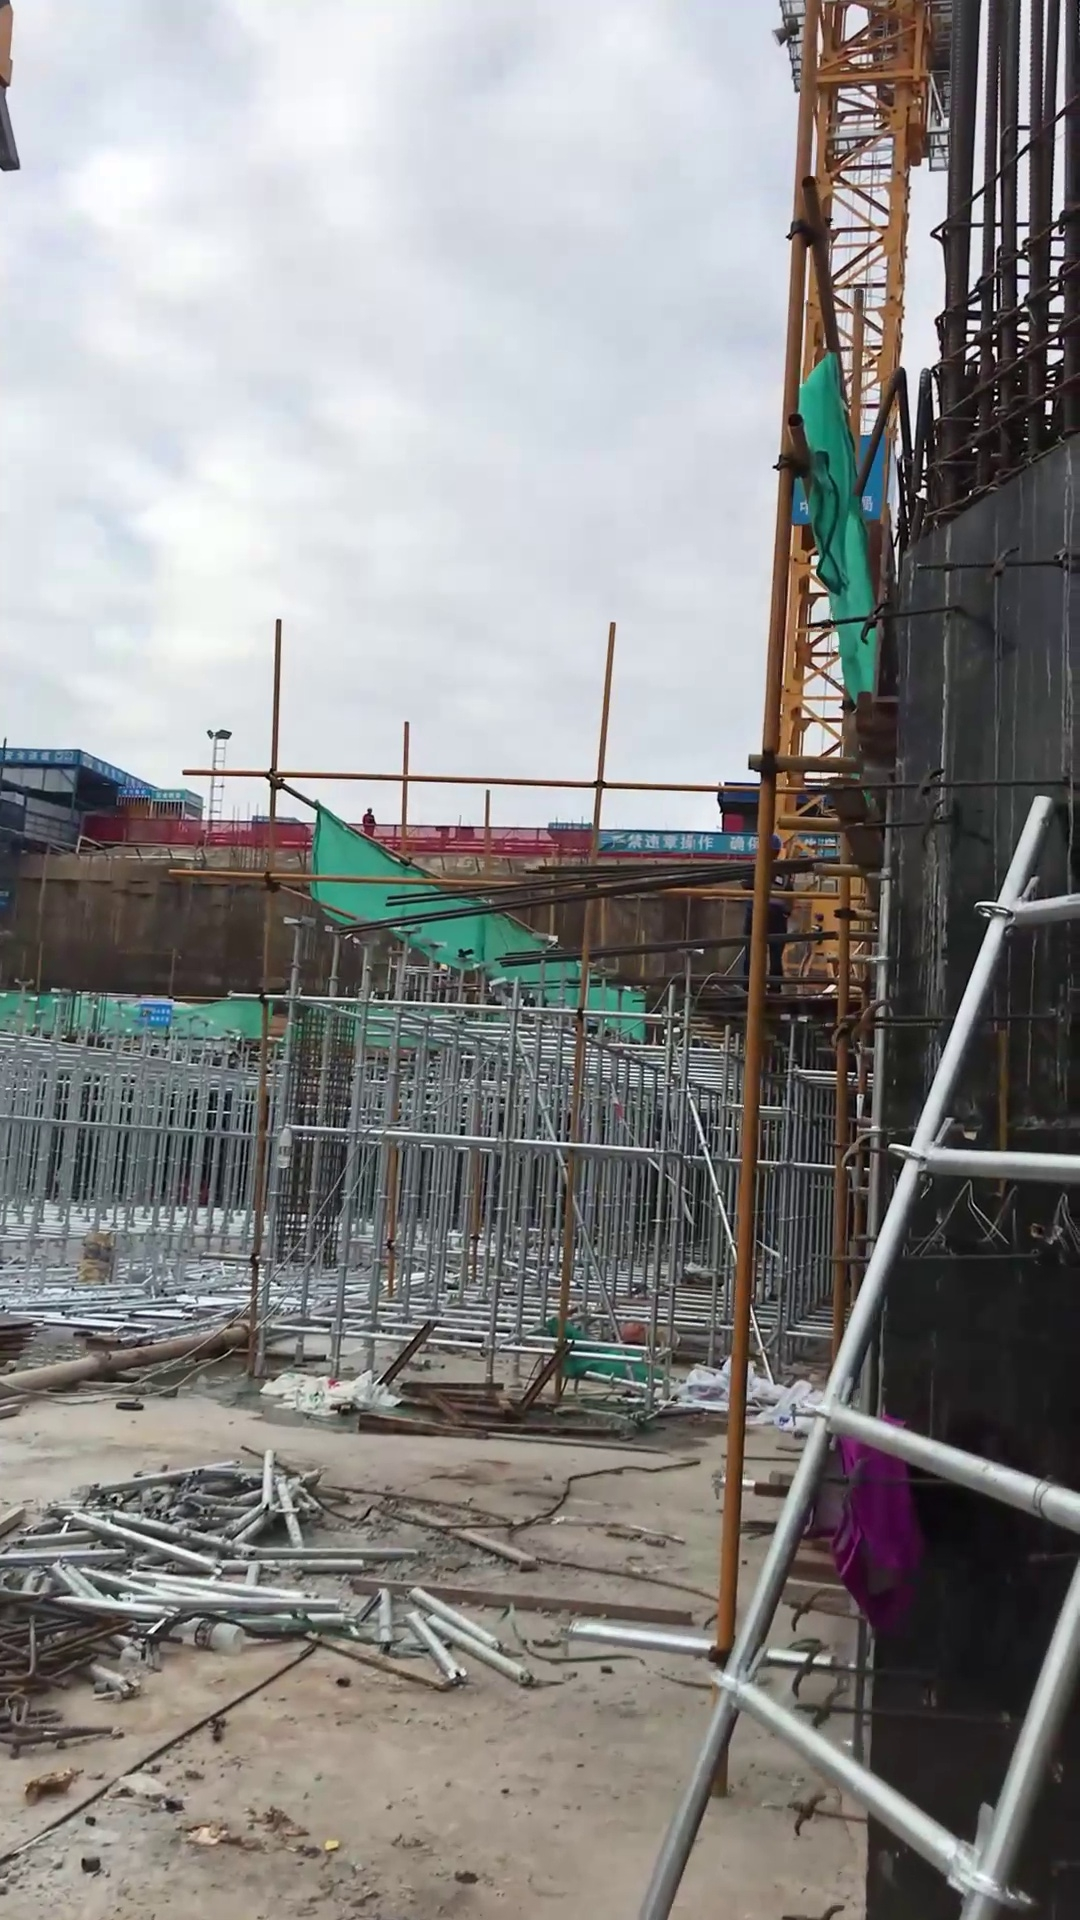ebox: (803, 886, 858, 971)
person: (740, 827, 793, 996), (362, 805, 380, 842)
slogan: (1, 745, 205, 807), (599, 829, 766, 854), (137, 993, 174, 1029)
